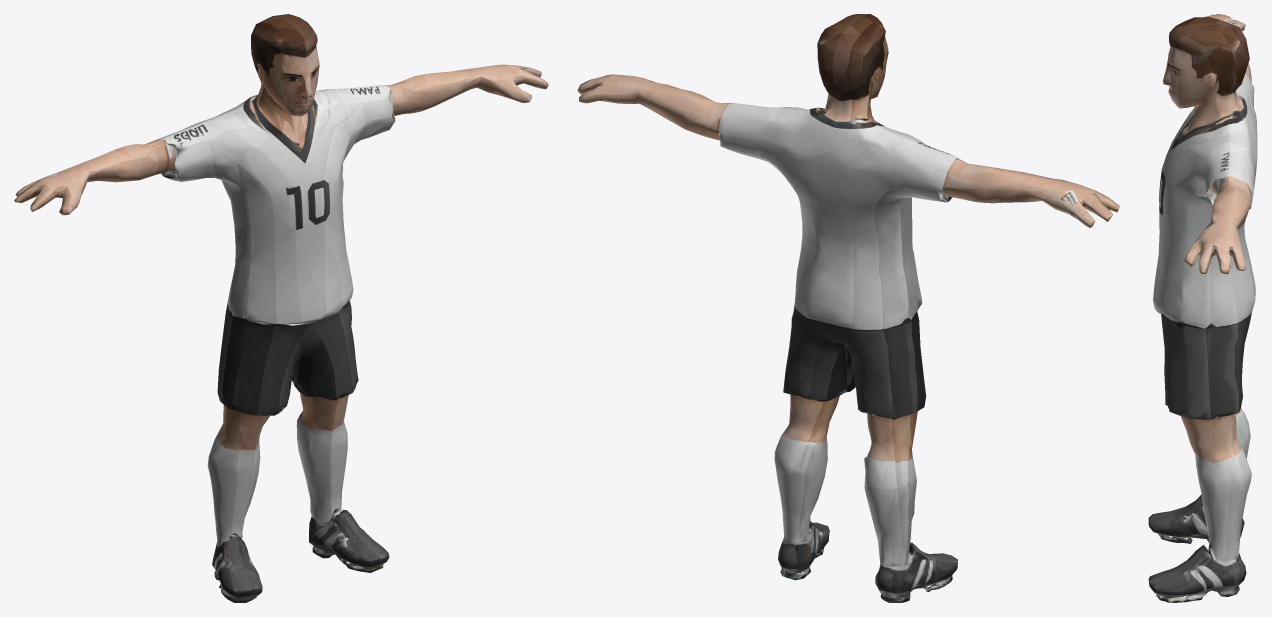
The model's file is Polygonal Soccer Player.fbx.
3 renders of one model, left to right at view 1: azimuth 30°, elevation 25°; view 2: azimuth 150°, elevation 25°; view 3: azimuth 270°, elevation 25°, orthographic. The views are drawn at different scales.
Parts seen in each view (by area): view 1: texture_mapping; view 2: texture_mapping; view 3: texture_mapping.
Part boxes in pixels (box(x1,y1,x2,y2)): texture_mapping: box(14, 14, 548, 602); texture_mapping: box(577, 14, 1119, 602); texture_mapping: box(1148, 14, 1257, 602).
Size of the model in its own units: 0.9977 by 0.1811 by 1.
Materials: 1 (1 with a texture image).
